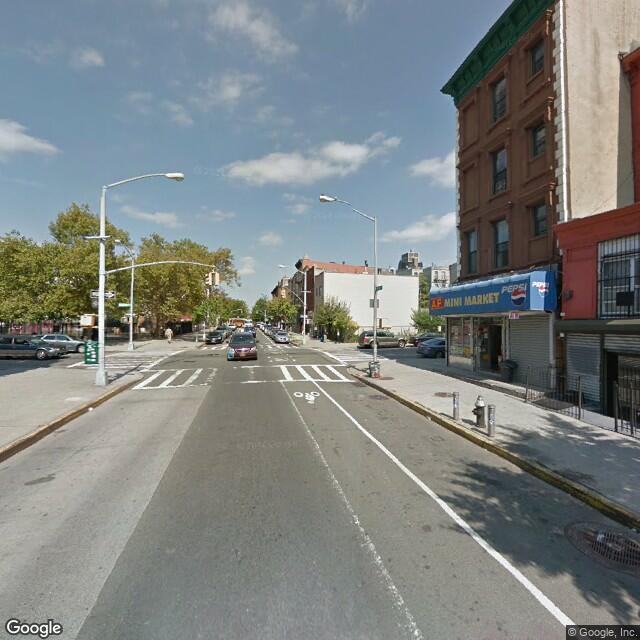litter: (594, 531, 604, 542), (485, 378, 496, 388), (87, 406, 99, 415), (421, 413, 433, 420), (630, 523, 637, 532), (481, 444, 489, 451)
